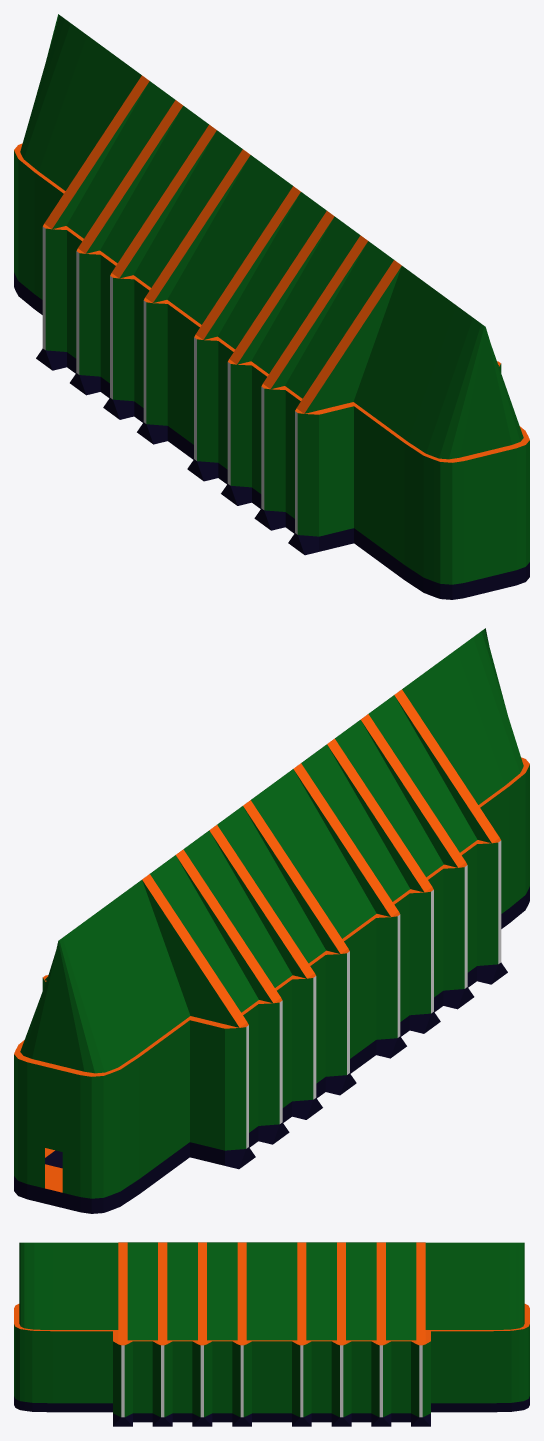
File: StartingRoom.fbx
3 views of the same model, one above another, from view 1: azimuth 30°, elevation 25°; view 2: azimuth 150°, elevation 25°; view 3: azimuth 270°, elevation 25° (orthographic). The views are drawn at different scales.
Visible parts, largest first — view 1: main; view 2: main; view 3: main.
Part boxes in pixels (x1=…): main: x1=14, y1=14, x2=529, y2=599; main: x1=14, y1=628, x2=529, y2=1213; main: x1=14, y1=1242, x2=529, y2=1426.
Size of the model in its own units: 1397 by 1717 by 5192.
